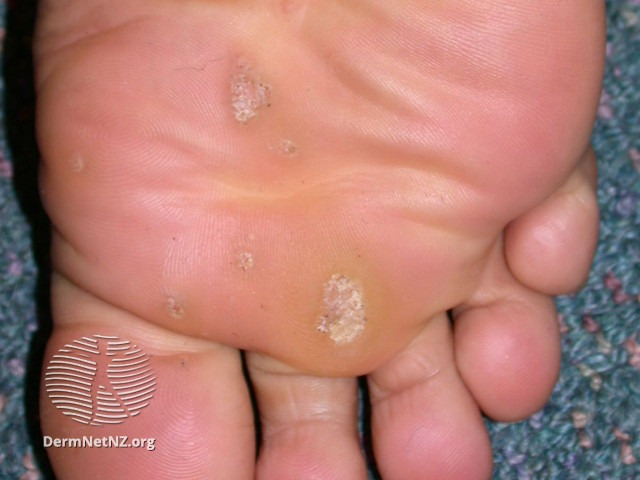Warts: (310, 269, 371, 360), (222, 40, 275, 126), (230, 240, 265, 285), (277, 136, 300, 164)
